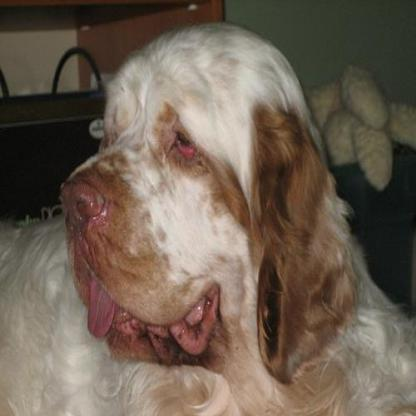clumber: (0, 15, 414, 412)
